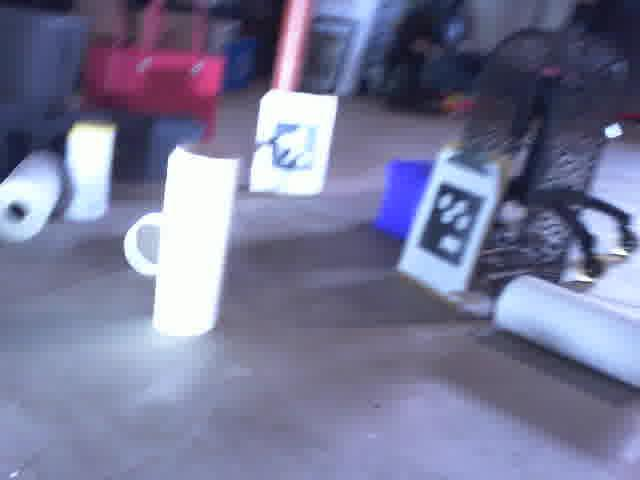coral: (143, 135, 250, 343), (490, 273, 640, 392), (119, 210, 165, 289)
